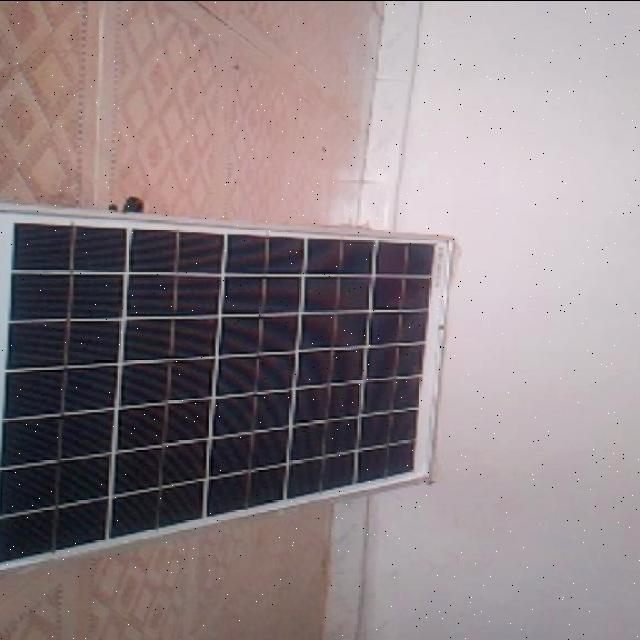Normal Solar Panel: (0, 202, 455, 571)
